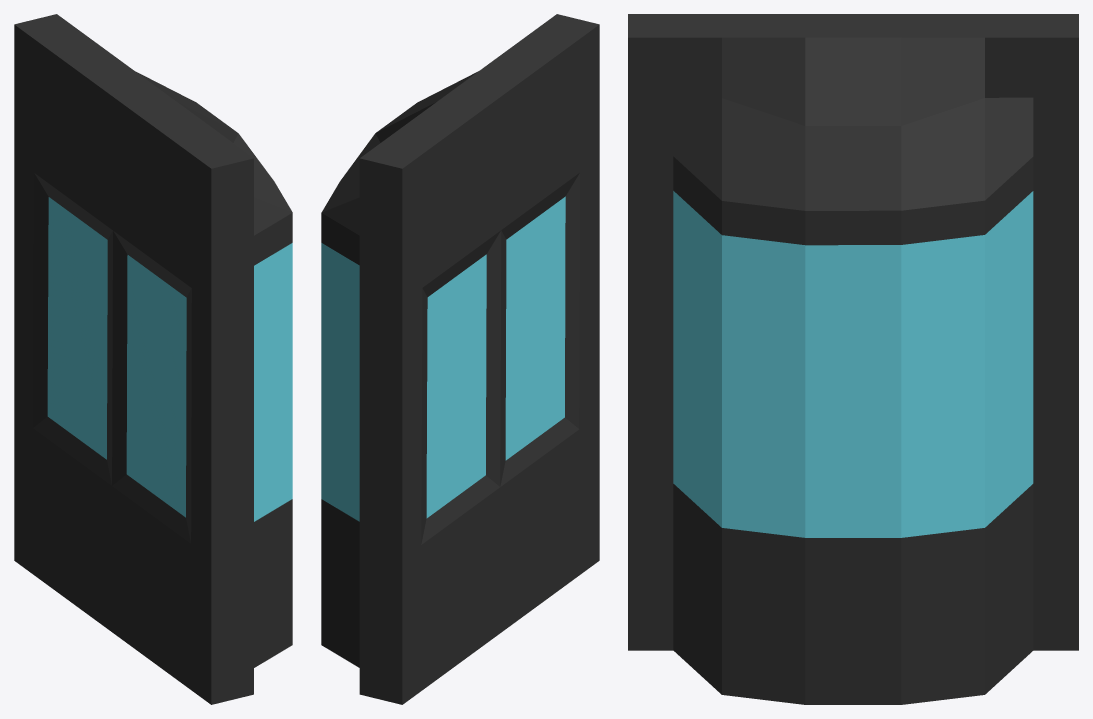
Rendered from WindowDown.FBX.
3 renders of one model, left to right at view 1: azimuth 30°, elevation 25°; view 2: azimuth 150°, elevation 25°; view 3: azimuth 270°, elevation 25°, orthographic. The views are drawn at different scales.
Parts seen in each view (by area): view 1: WindowBaseFloor; view 2: WindowBaseFloor; view 3: WindowBaseFloor.
Part boxes in pixels (x1,y1,x2,y2): WindowBaseFloor: (14, 14, 292, 704); WindowBaseFloor: (321, 14, 599, 704); WindowBaseFloor: (628, 14, 1078, 704).
Bounding box in the file's own units: 0.8232 × 3 × 2.
